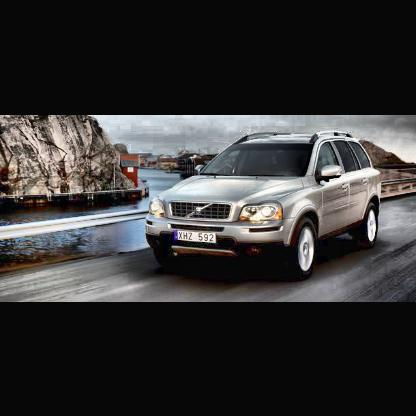Volvo XC90 SUV 2007: (147, 134, 381, 275)
